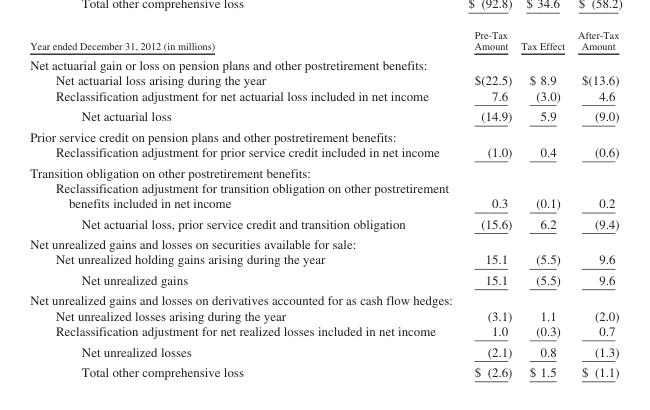table: (29, 29, 618, 378)
table column: (29, 29, 460, 378), (460, 29, 515, 378), (515, 29, 570, 378), (570, 29, 618, 378)
table column header: (29, 29, 618, 54)
table projected row header: (29, 54, 618, 72), (29, 161, 618, 179), (29, 233, 618, 251), (29, 289, 618, 307), (29, 126, 618, 143)
table row: (29, 179, 618, 213), (29, 29, 618, 54), (29, 105, 618, 126), (29, 340, 618, 361), (29, 213, 618, 233), (29, 269, 618, 289), (29, 54, 618, 72), (29, 87, 618, 105), (29, 143, 618, 161), (29, 161, 618, 179), (29, 233, 618, 251), (29, 251, 618, 269), (29, 289, 618, 307), (29, 322, 618, 340), (29, 126, 618, 143), (29, 361, 618, 378), (29, 72, 618, 87), (29, 307, 618, 322)
